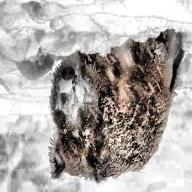boar: (36, 22, 192, 191)
